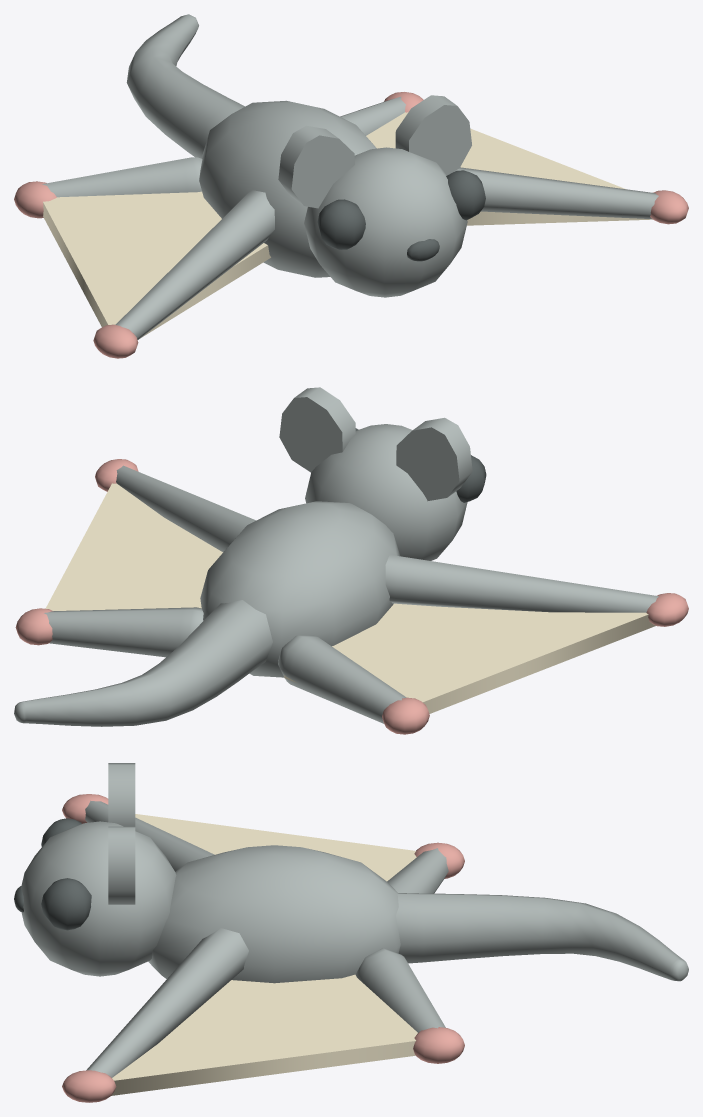
Rendered from outback-and-australian-wildlife-sugar-glider-cd3d4d08__5913.glb.
The picture shows the model from 3 angles, top to bottom: view 1: azimuth 30°, elevation 25°; view 2: azimuth 150°, elevation 25°; view 3: azimuth 270°, elevation 25°; orthographic projection. The views are drawn at different scales.
Parts seen in each view (by area): view 1: sugar-glider; view 2: sugar-glider; view 3: sugar-glider.
Part boxes in pixels (x1,y1,x2,y2): sugar-glider: (14, 14, 688, 358); sugar-glider: (14, 387, 688, 734); sugar-glider: (14, 763, 688, 1102).
Size of the model in its own units: 0.64 by 0.2086 by 0.6194.
